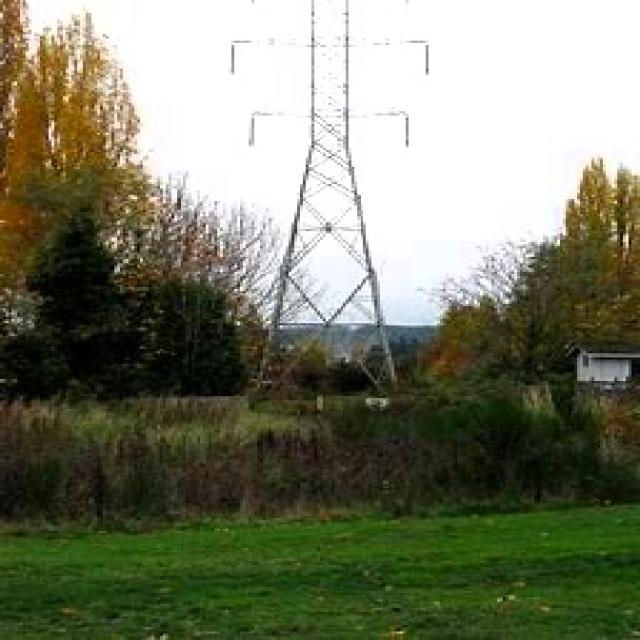utility poles: (145, 256, 322, 412), (343, 296, 498, 434)
